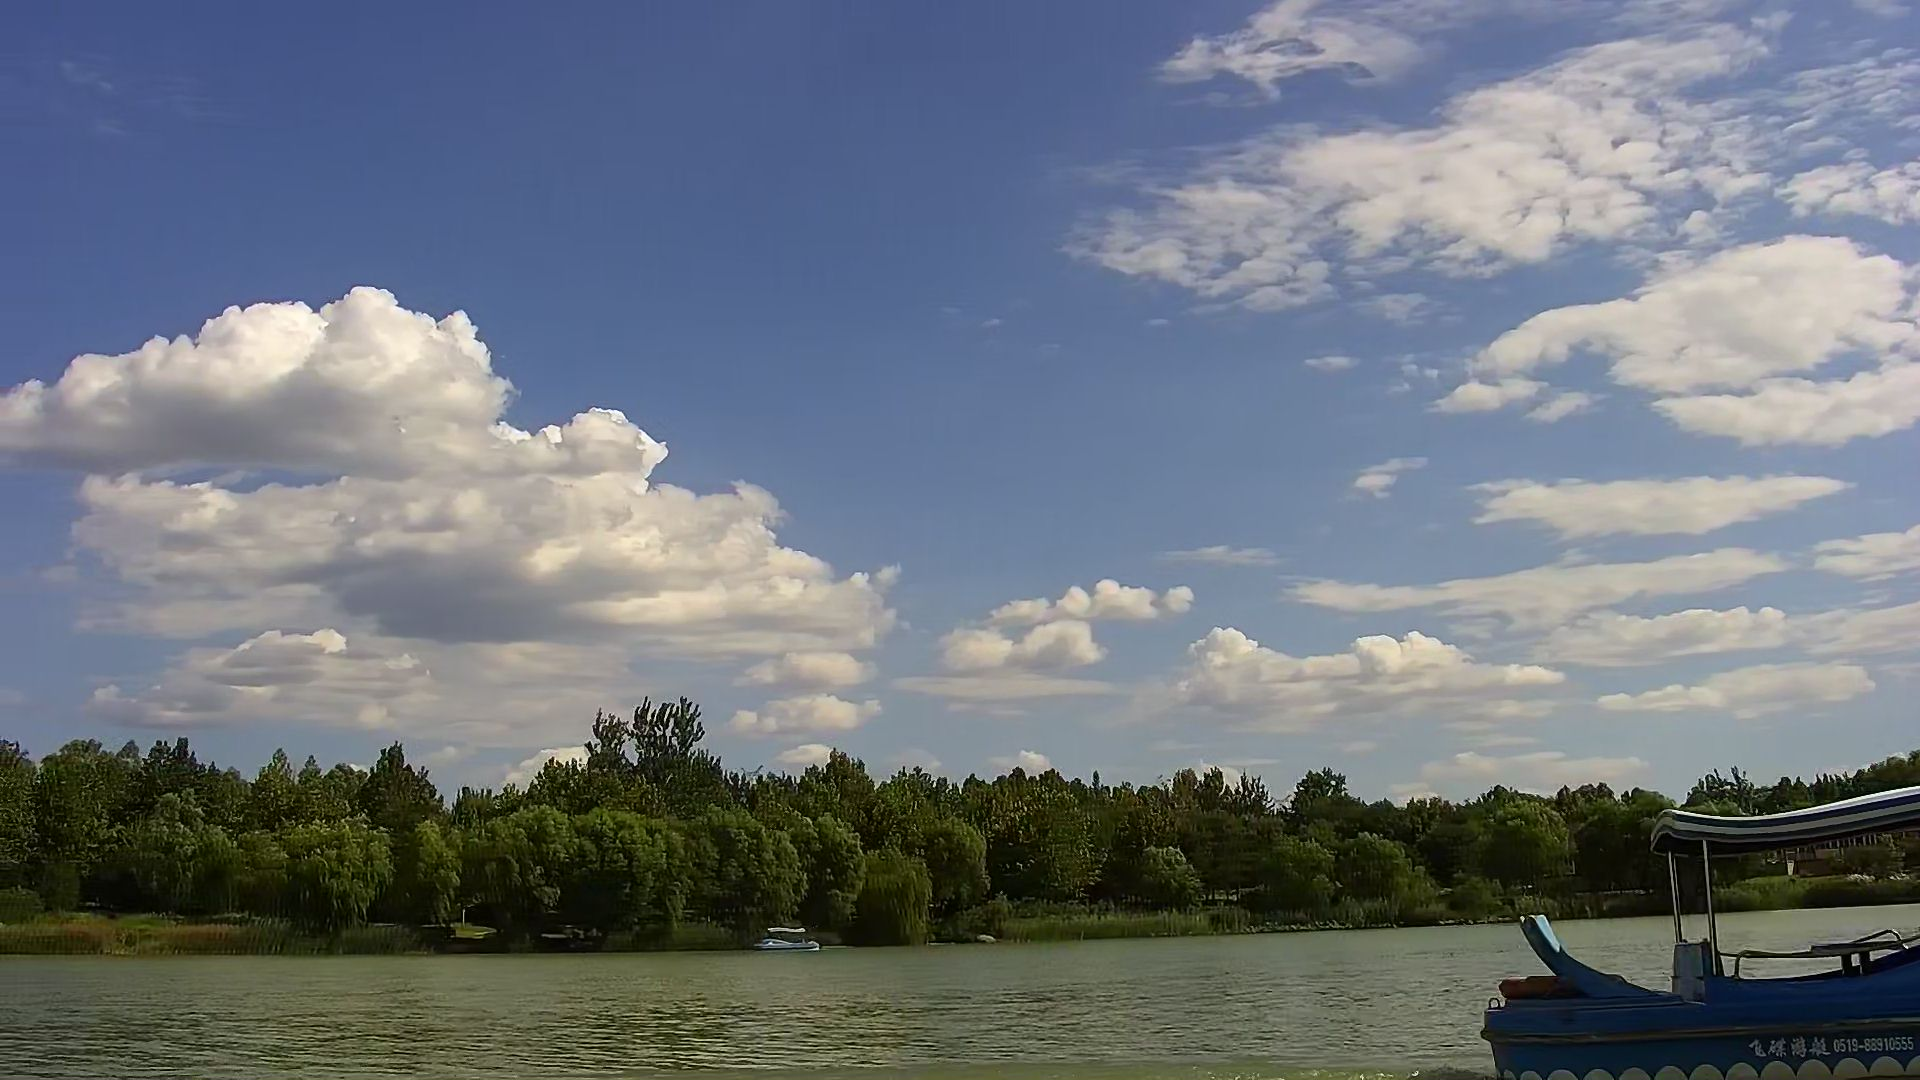boat: (1474, 769, 1920, 1080), (746, 920, 824, 957)
